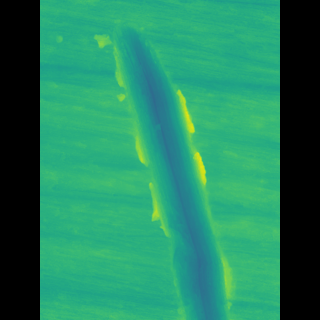Loch: (116, 15, 218, 320)
